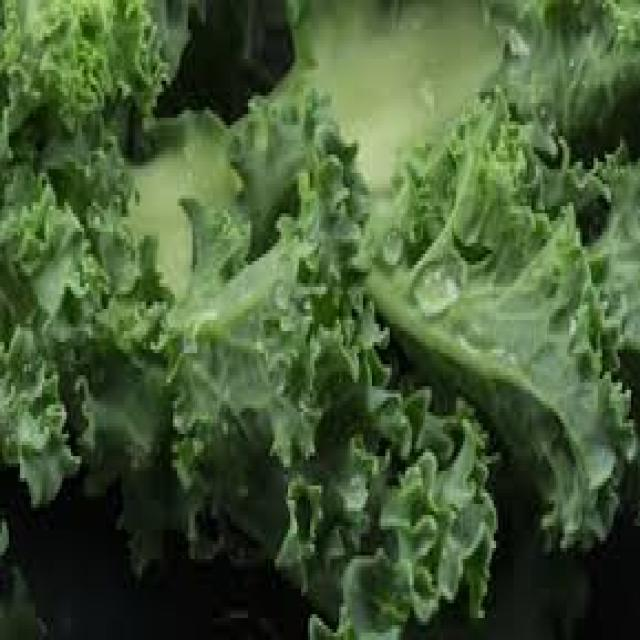biodegradable: (0, 0, 638, 636), (76, 100, 490, 637), (241, 0, 638, 552), (0, 0, 184, 497)
